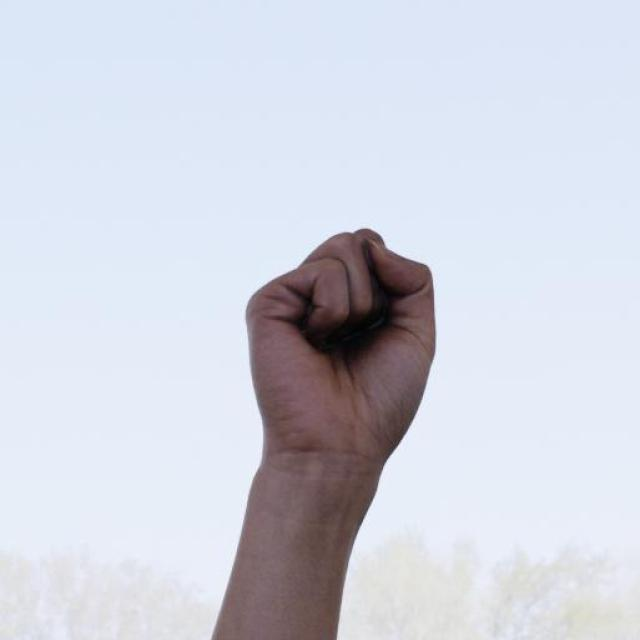S: (241, 225, 440, 469)
